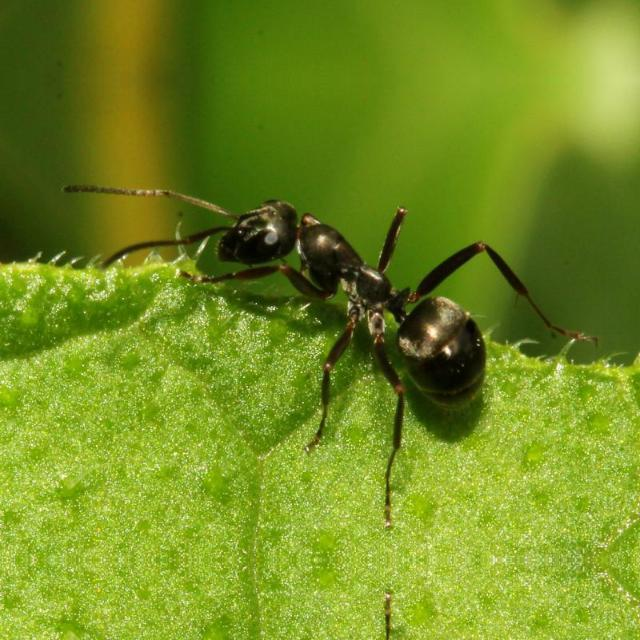Formica: (199, 184, 539, 438)
